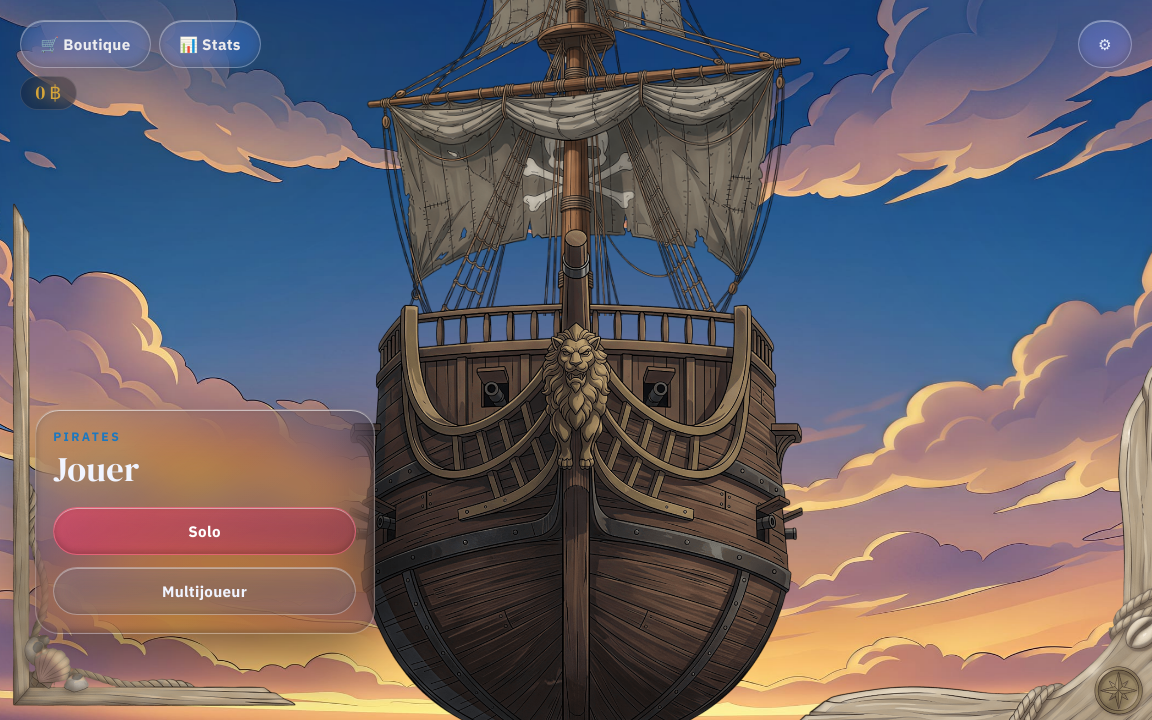
Test: DashboardPage — boutique › bascule vers la boutique sans quitter le dashboard
This screenshot has width=1152, height=720.
What coordinates should you click on to do the following:
click the button "🛒 Boutique"
I would click on:
 (85, 44)
Its box is [20, 20, 151, 68].
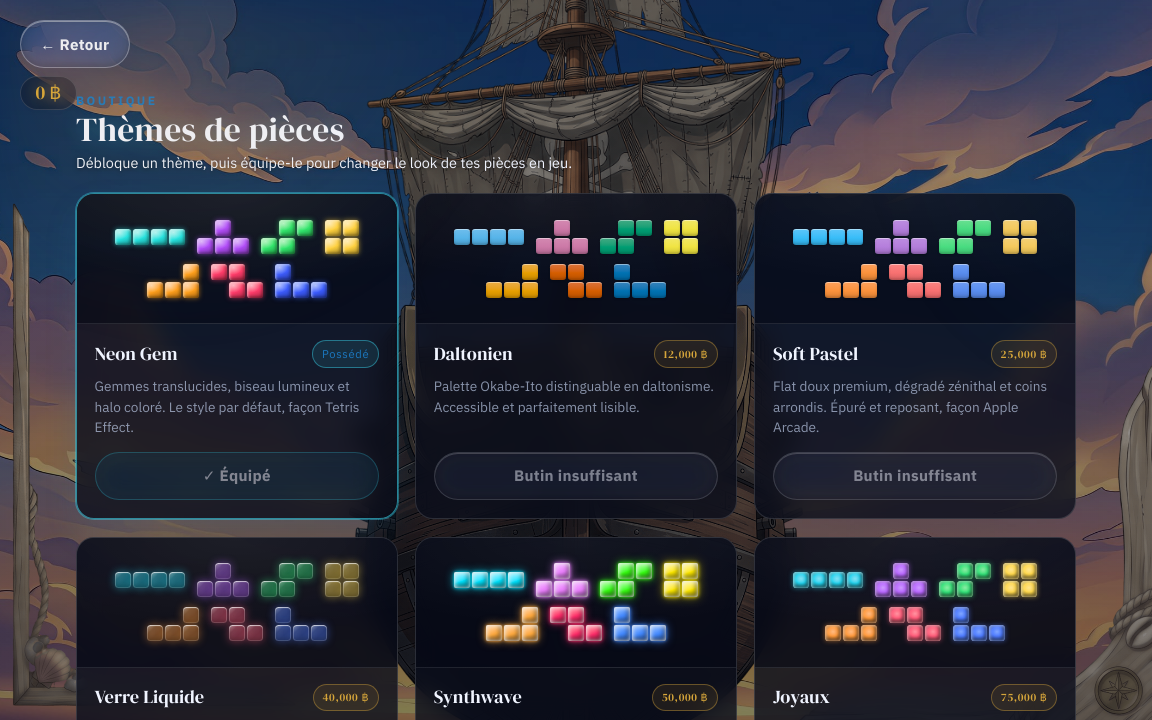
Expected: the text titled "Cumul de tes scores de fin de partie" is shown, [20, 76, 77, 110]
Result: the heading "Thèmes de pièces" is shown at [76, 106, 345, 152]
